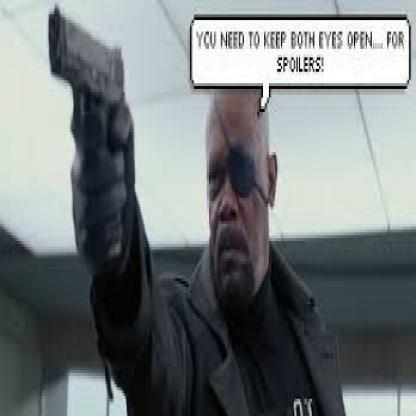Pistol: (36, 3, 127, 172)
